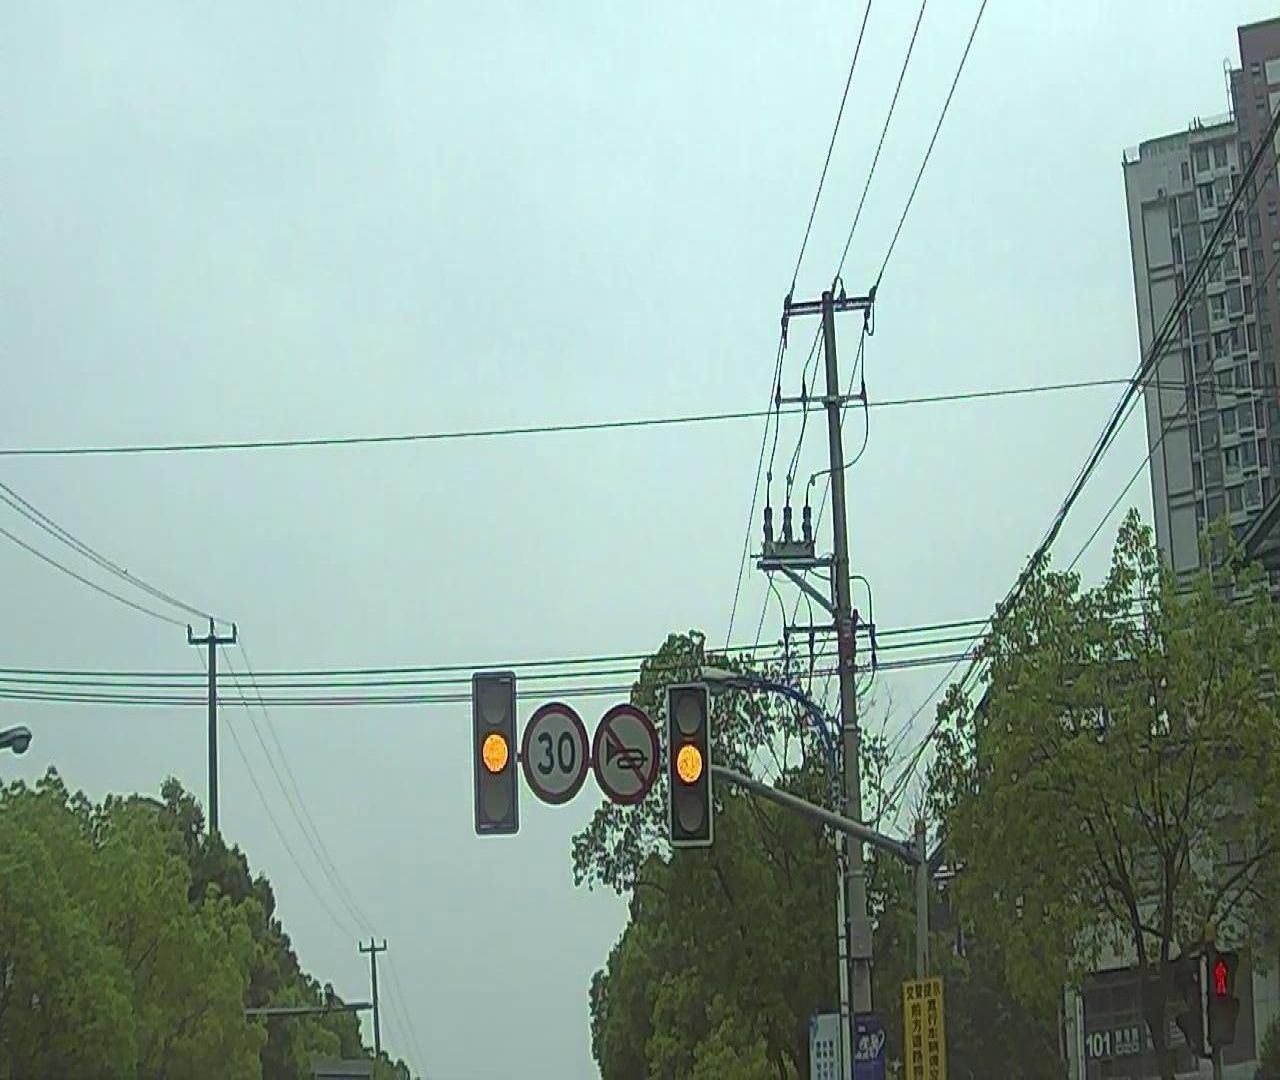yellow: (477, 673, 517, 834), (669, 687, 709, 844)
